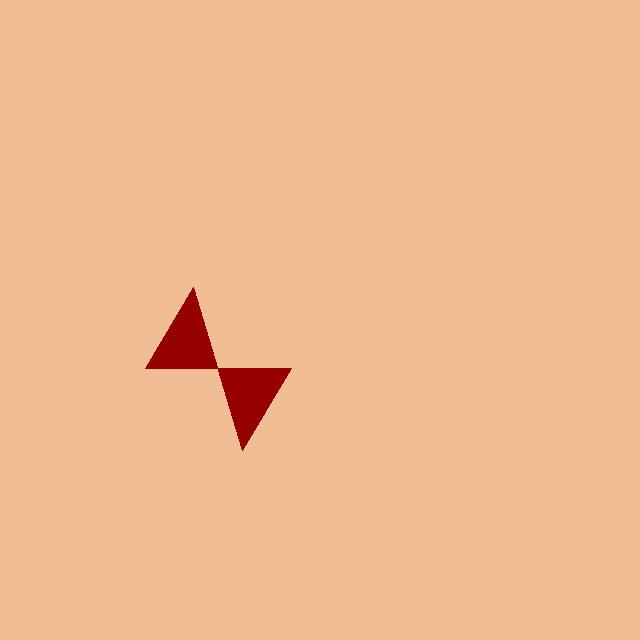laceration: (145, 287, 291, 450)
